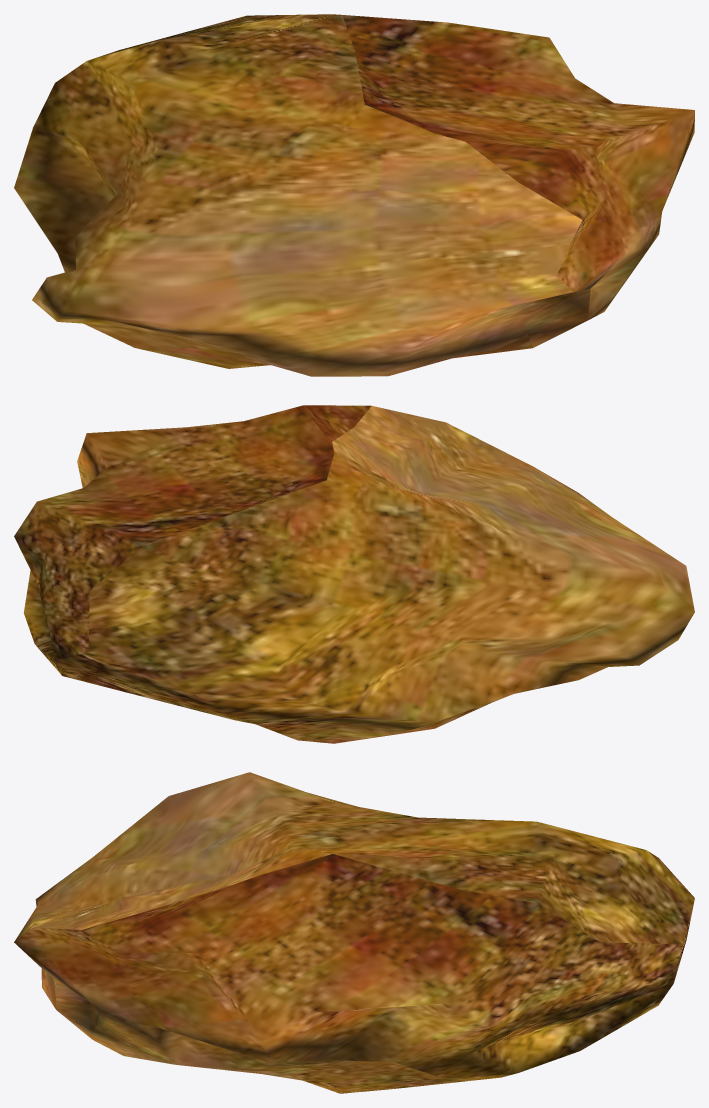
File: Thorium.fbx
The picture shows the model from 3 angles, top to bottom: view 1: azimuth 30°, elevation 25°; view 2: azimuth 150°, elevation 25°; view 3: azimuth 270°, elevation 25°; orthographic projection. The views are drawn at different scales.
Visible parts, largest first — view 1: Mesh1; view 2: Mesh1; view 3: Mesh1.
Boxes of the visible parts, bbox=[...] form: Mesh1: bbox=[14, 14, 694, 376]; Mesh1: bbox=[14, 405, 694, 743]; Mesh1: bbox=[14, 772, 694, 1093].
Bounding box in the file's own units: 11.04 × 2.97 × 10.73.
1 material, 1 textured.
